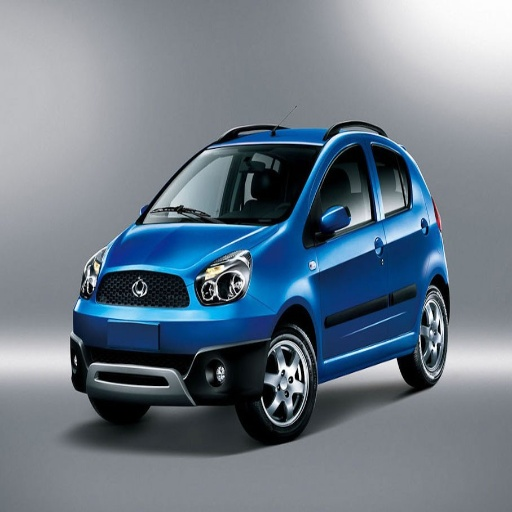front_bumper: (71, 268, 277, 404)
front_glass: (139, 148, 321, 223)
front_left_door: (307, 133, 389, 359)
